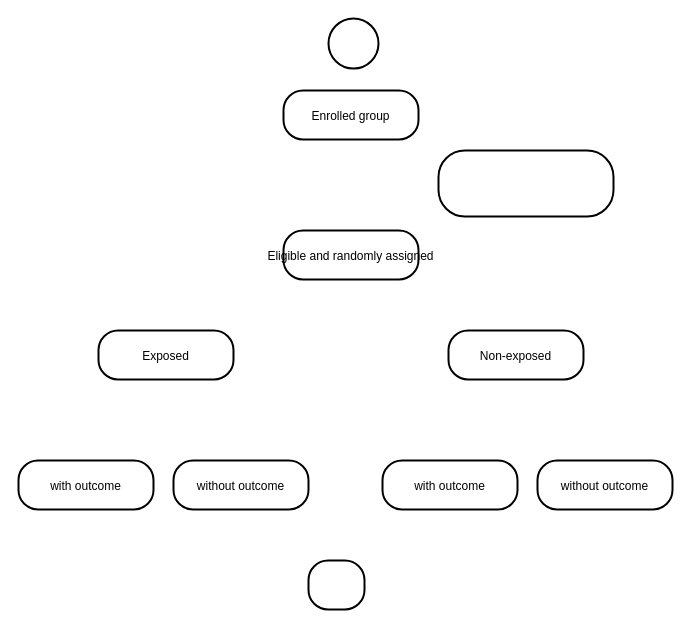
Some shapes in this 690 by 627 pixel diagram are drawn without their labels. The shapes that lost their labels are listed below. From the top down, each one's box as (x1, y1, x2, y2) in pixels, then its label:
(327, 17, 379, 69): Start
(437, 149, 614, 217): Number of excluded participants
(307, 559, 365, 610): End
